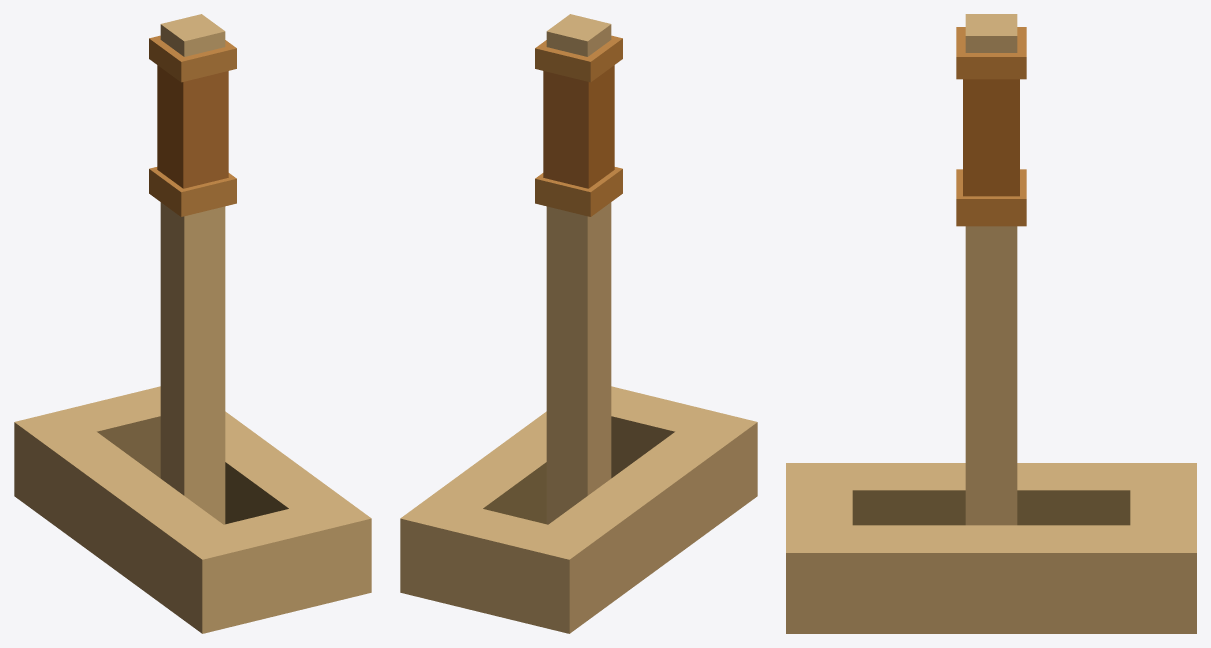
The model's file is ST_Prop_Lever_02.fbx.
3 renders of one model, left to right at view 1: azimuth 30°, elevation 25°; view 2: azimuth 150°, elevation 25°; view 3: azimuth 270°, elevation 25°, orthographic. The views are drawn at different scales.
Visible parts, largest first — view 1: ST_Prop_Lever_02, ST_Prop_Lever_Handle_02; view 2: ST_Prop_Lever_02, ST_Prop_Lever_Handle_02; view 3: ST_Prop_Lever_02, ST_Prop_Lever_Handle_02.
Boxes of the visible parts, box(x1,y1,x2,y2) form: ST_Prop_Lever_02: box(14, 386, 371, 633); ST_Prop_Lever_Handle_02: box(149, 14, 236, 524); ST_Prop_Lever_02: box(400, 386, 757, 633); ST_Prop_Lever_Handle_02: box(535, 14, 622, 524); ST_Prop_Lever_02: box(786, 463, 1196, 633); ST_Prop_Lever_Handle_02: box(956, 14, 1026, 525).
Bounding box in the file's own units: 0.7006 × 2.04 × 1.35.
